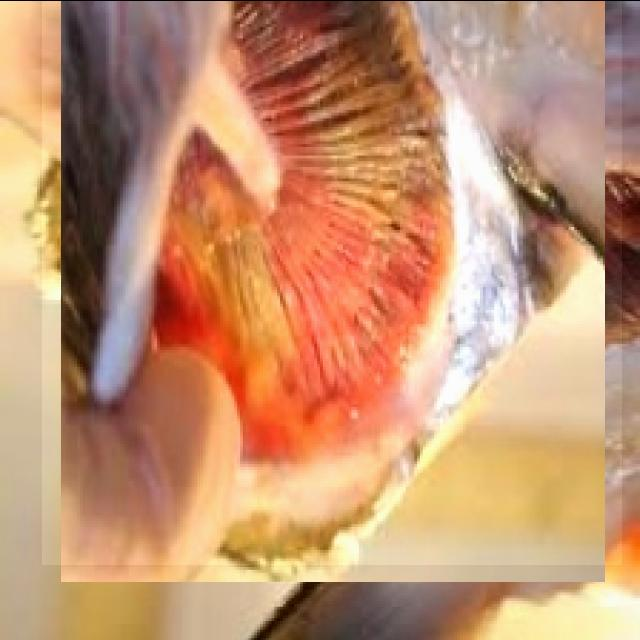Gill Disease: (42, 0, 622, 564)
